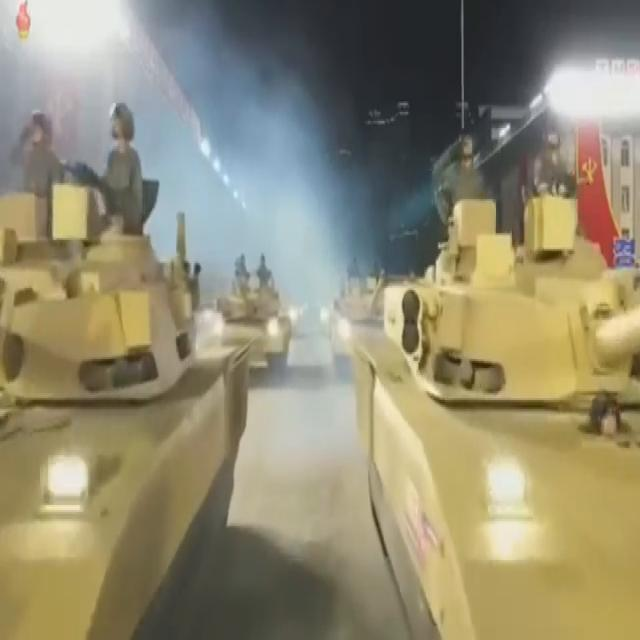north tank: (0, 85, 280, 640), (356, 98, 639, 640), (212, 216, 296, 396), (323, 228, 406, 403)
